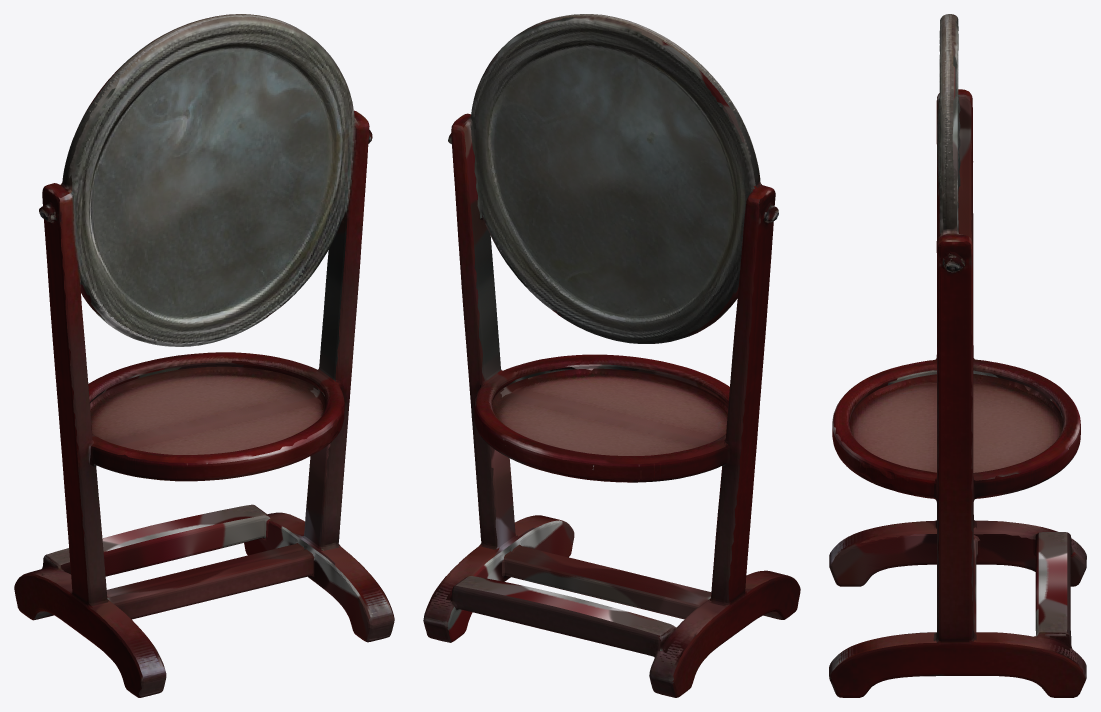
Rendered from kabuki_bronze_mirror.glb.
The picture shows the model from 3 angles, left to right: view 1: azimuth 30°, elevation 25°; view 2: azimuth 150°, elevation 25°; view 3: azimuth 270°, elevation 25°; orthographic projection.
Visible parts, largest first — view 1: temp_mesh.ply; view 2: temp_mesh.ply; view 3: temp_mesh.ply.
Boxes of the visible parts, x1,y1,x2,y2 form: temp_mesh.ply: (14,14,394,697); temp_mesh.ply: (423,14,800,697); temp_mesh.ply: (829,14,1086,697).
Size of the model in its own units: 1.12 by 1.97 by 0.76.
1 material, 1 textured.
